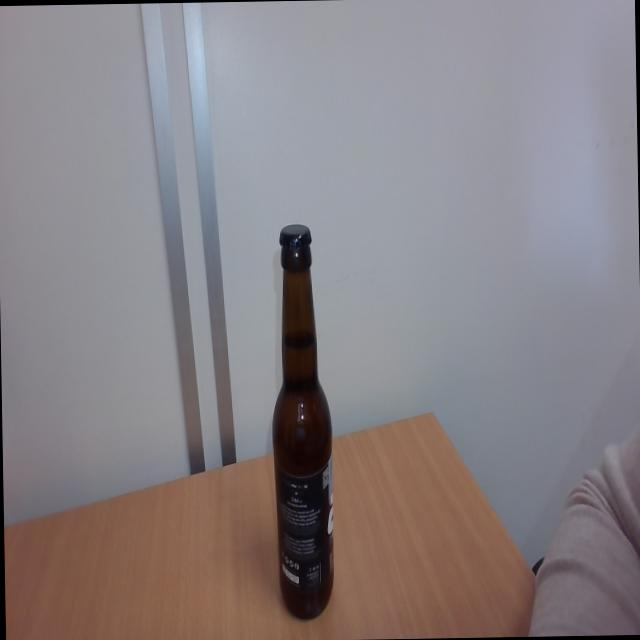Bottle: (268, 246, 336, 624)
Cap: (277, 220, 313, 250)
Label: (276, 466, 333, 584)
